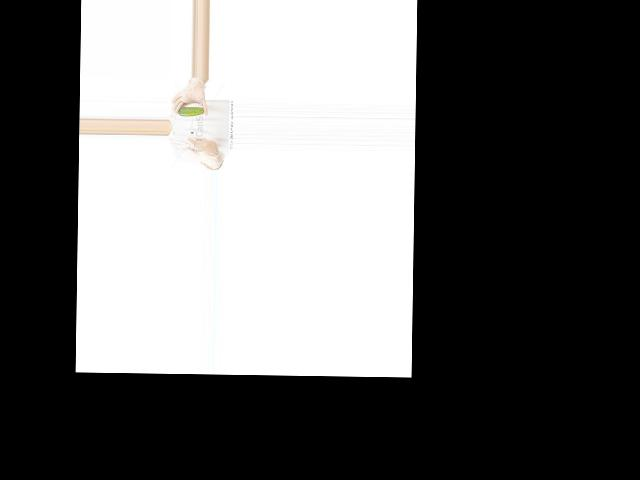cucumber: (178, 106, 205, 116)
